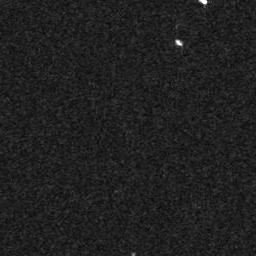ship: (175, 38, 183, 48)
